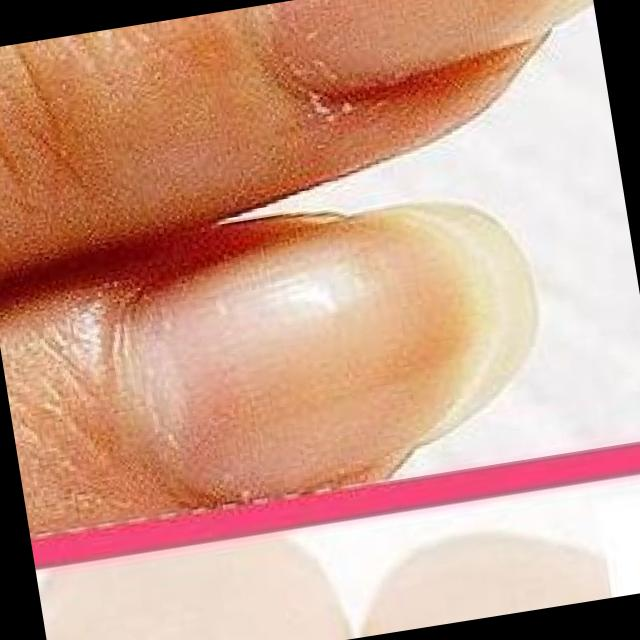Nail: (134, 204, 537, 502), (272, 0, 589, 96)
